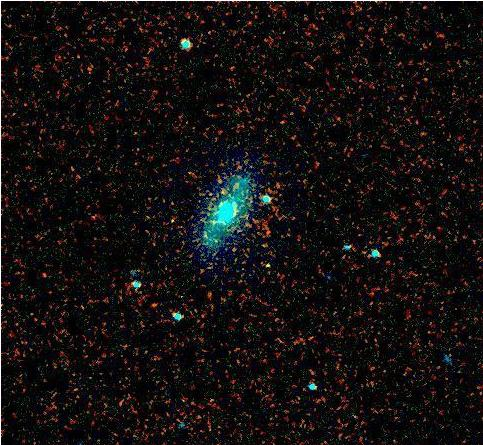star: (251, 248, 281, 278)
